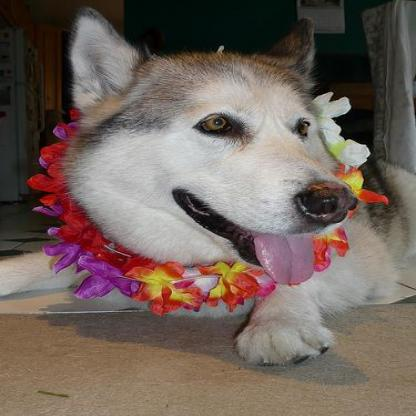malamute: (0, 1, 413, 367)
